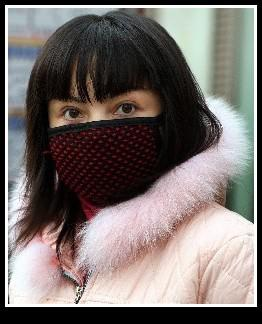OK: (44, 87, 157, 200)
